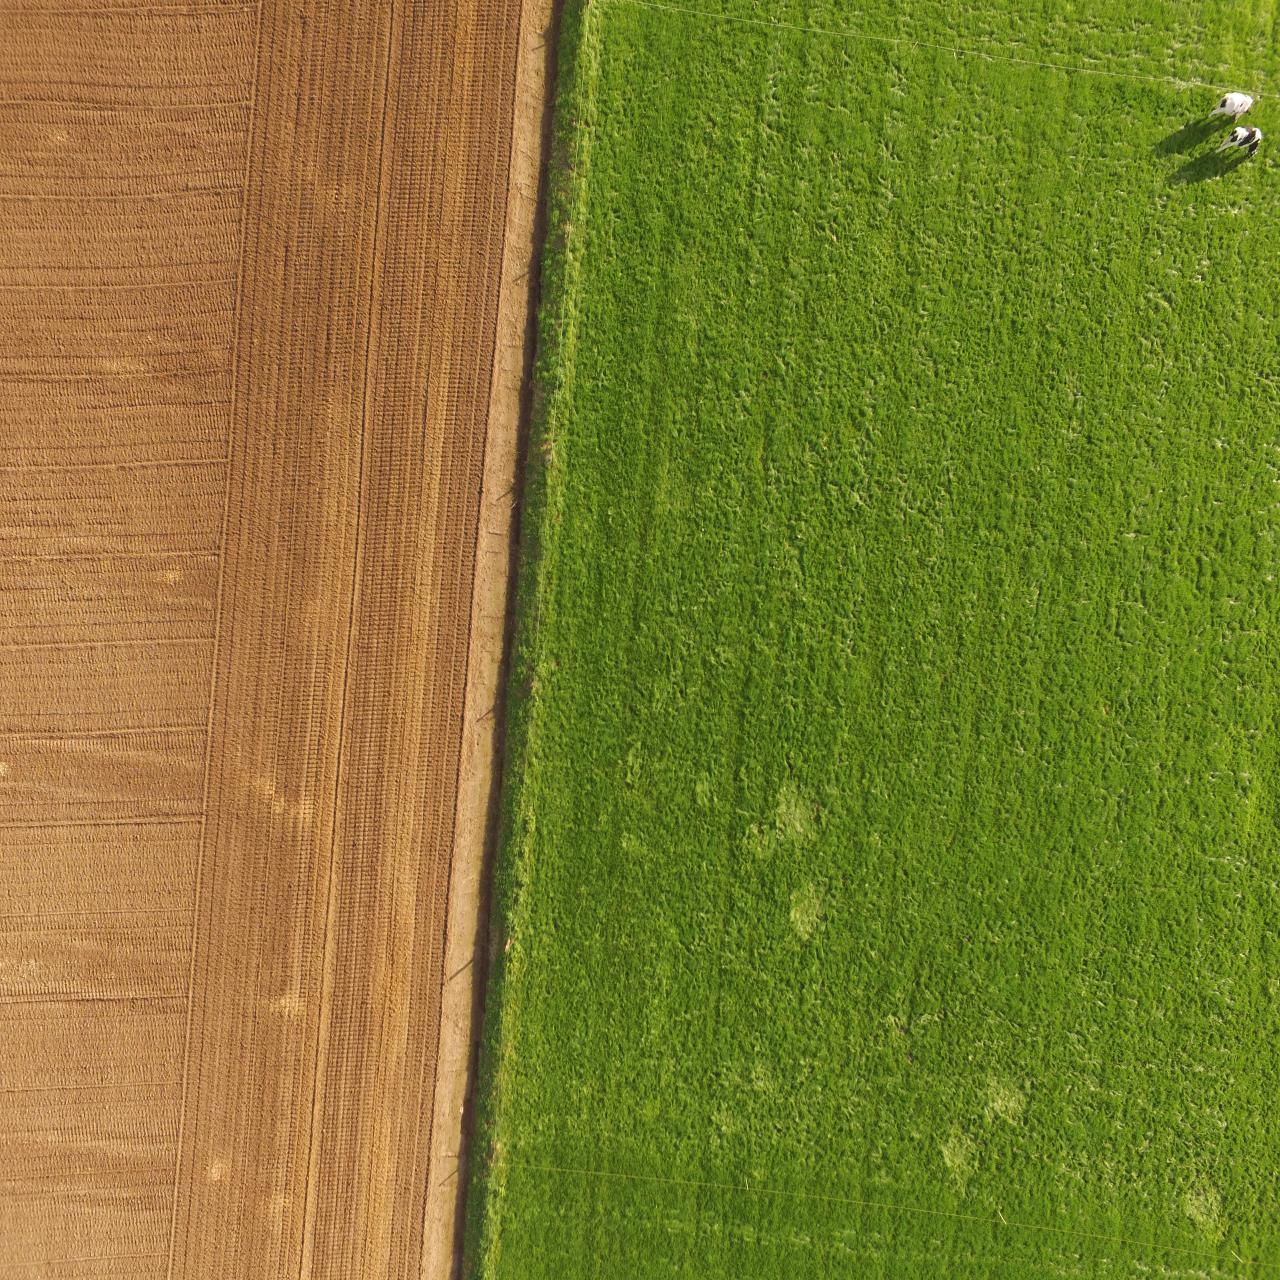cow: (1213, 124, 1262, 158), (1206, 91, 1254, 123)
